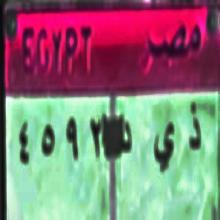2: (87, 114, 103, 164)
4: (15, 117, 34, 174)
5: (40, 118, 56, 171)
9: (64, 114, 83, 172)
daal: (120, 119, 135, 159)
yaa: (151, 116, 176, 176)
zaal: (184, 100, 204, 155)
